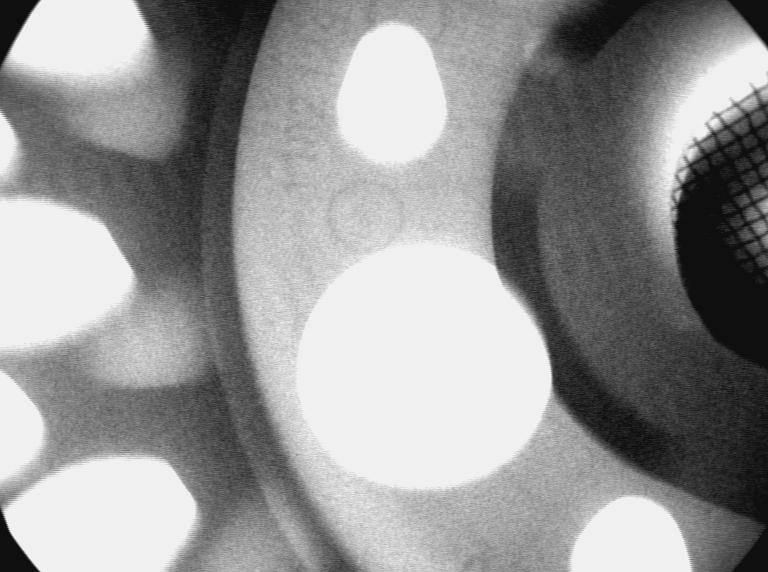defect: (524, 29, 578, 86)
